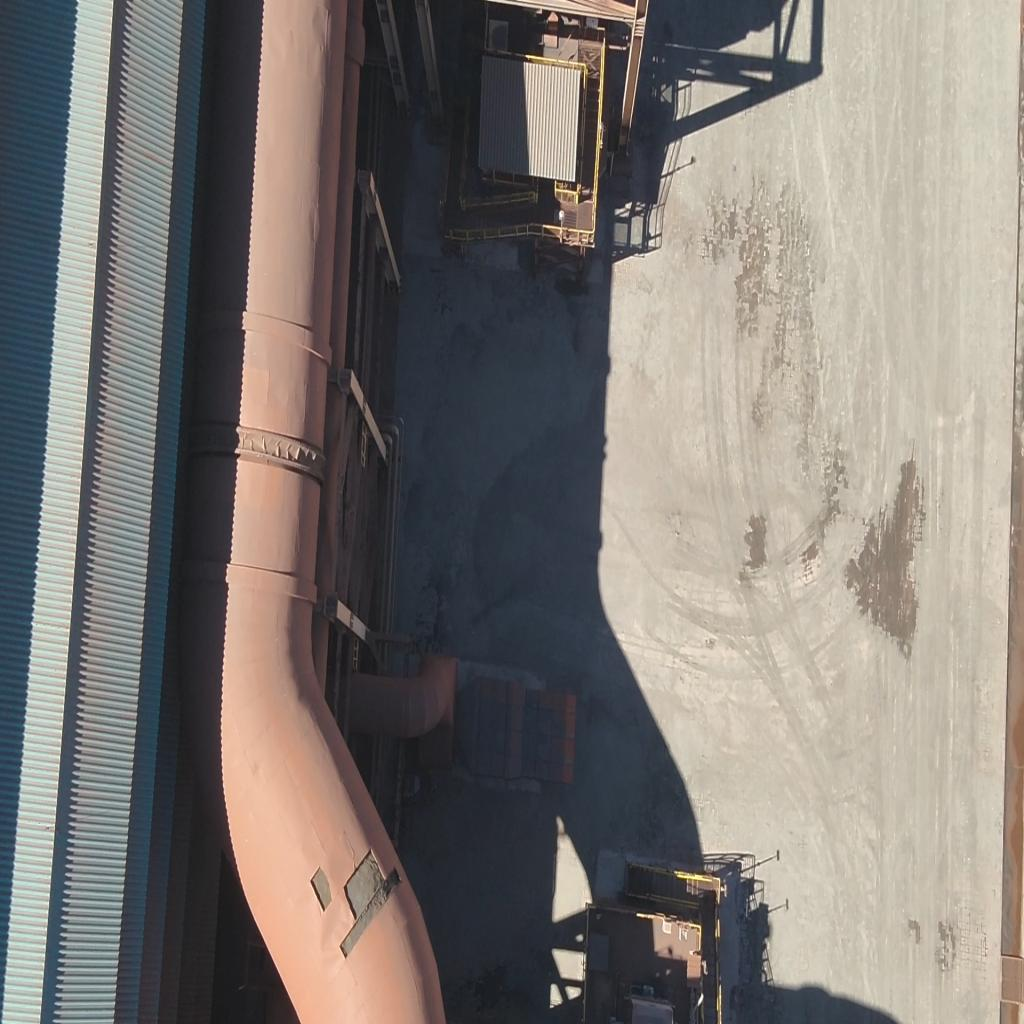Failures: (342, 855, 404, 958), (301, 863, 335, 913)
